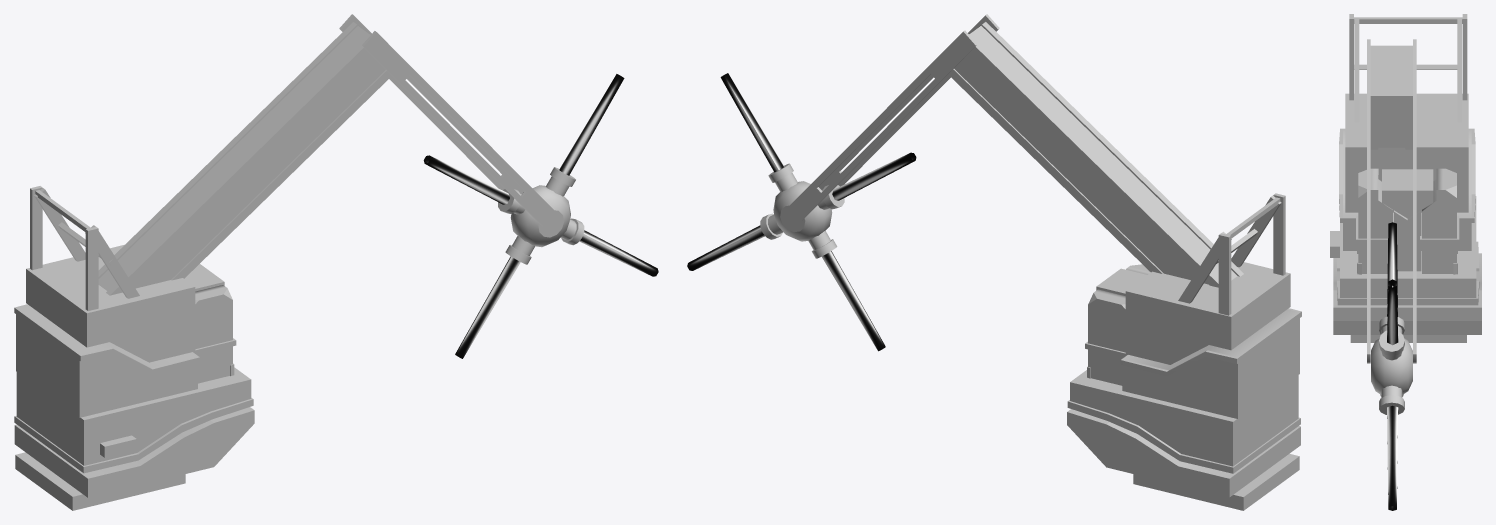
File: killWheel_Anim2.fbx
3 renders of one model, left to right at view 1: azimuth 30°, elevation 25°; view 2: azimuth 150°, elevation 25°; view 3: azimuth 270°, elevation 25°, orthographic. The views are drawn at different scales.
Parts seen in each view (by area): view 1: Main_Body_GEO, CraneArm_A, CraneArm_B, Lasers, Laser_Holder; view 2: Main_Body_GEO, CraneArm_A, CraneArm_B, Lasers, Laser_Holder; view 3: Main_Body_GEO, CraneArm_A, Laser_Holder, CraneArm_B, Lasers.
Part boxes in pixels (box(x1,y1,x2,y2)): Main_Body_GEO: box(14, 186, 254, 510); CraneArm_A: box(98, 22, 391, 295); CraneArm_B: box(339, 14, 555, 226); Lasers: box(423, 74, 658, 358); Laser_Holder: box(498, 167, 584, 264); Main_Body_GEO: box(1067, 193, 1301, 510); CraneArm_A: box(948, 22, 1243, 287); CraneArm_B: box(788, 14, 999, 221); Lasers: box(687, 73, 916, 351); Laser_Holder: box(760, 163, 844, 258); Main_Body_GEO: box(1330, 14, 1481, 342); CraneArm_A: box(1370, 45, 1412, 149); Laser_Holder: box(1371, 316, 1412, 414); CraneArm_B: box(1367, 39, 1416, 363); Lasers: box(1387, 222, 1398, 510).
Bounding box in the file's own units: 882 × 552 × 189.
